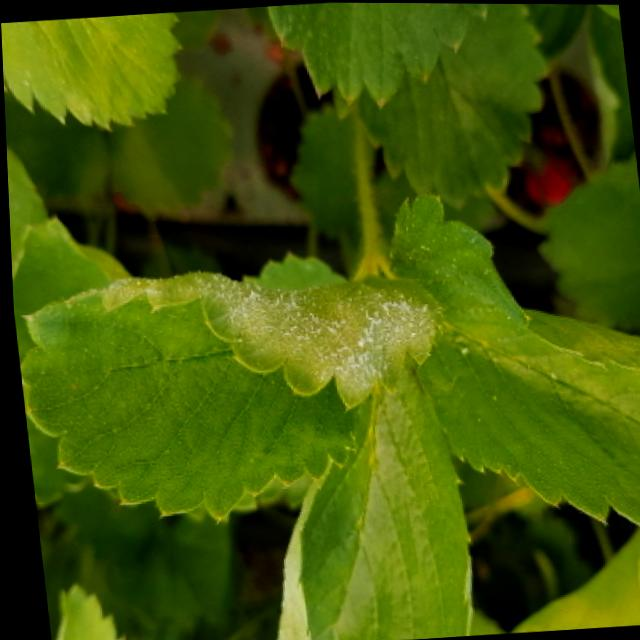Powdery Mildew Leaf: (15, 268, 444, 520), (378, 183, 640, 529), (269, 371, 468, 640)
